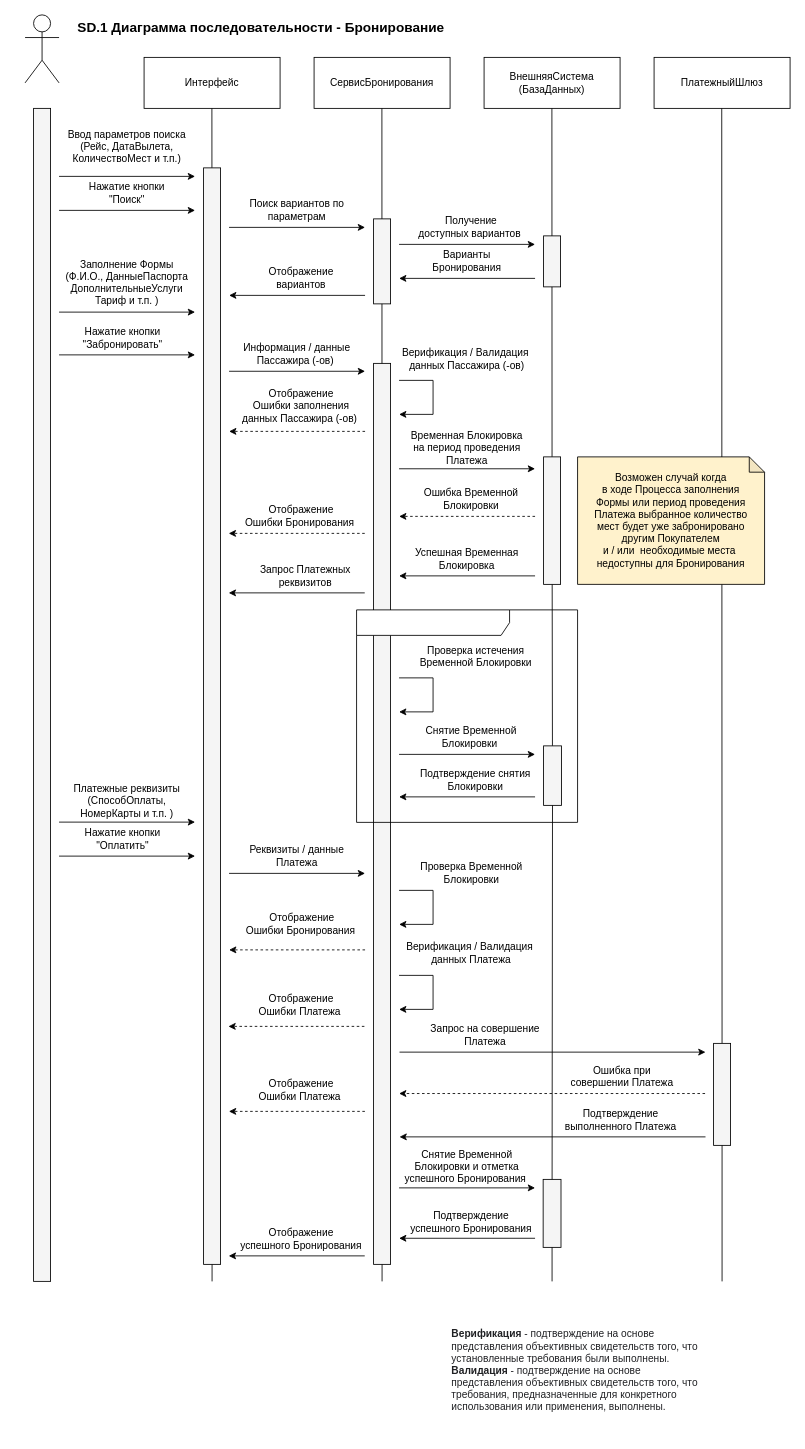
The diagram is 805 pixels wide and 1449 high, and some of its shapes have lost their labels. The box of each missing label's shape, as (x1, y1, x2, y2) in pixels:
Периодический процесс: (356, 609, 578, 822)
Покупатель: (24, 14, 59, 83)
